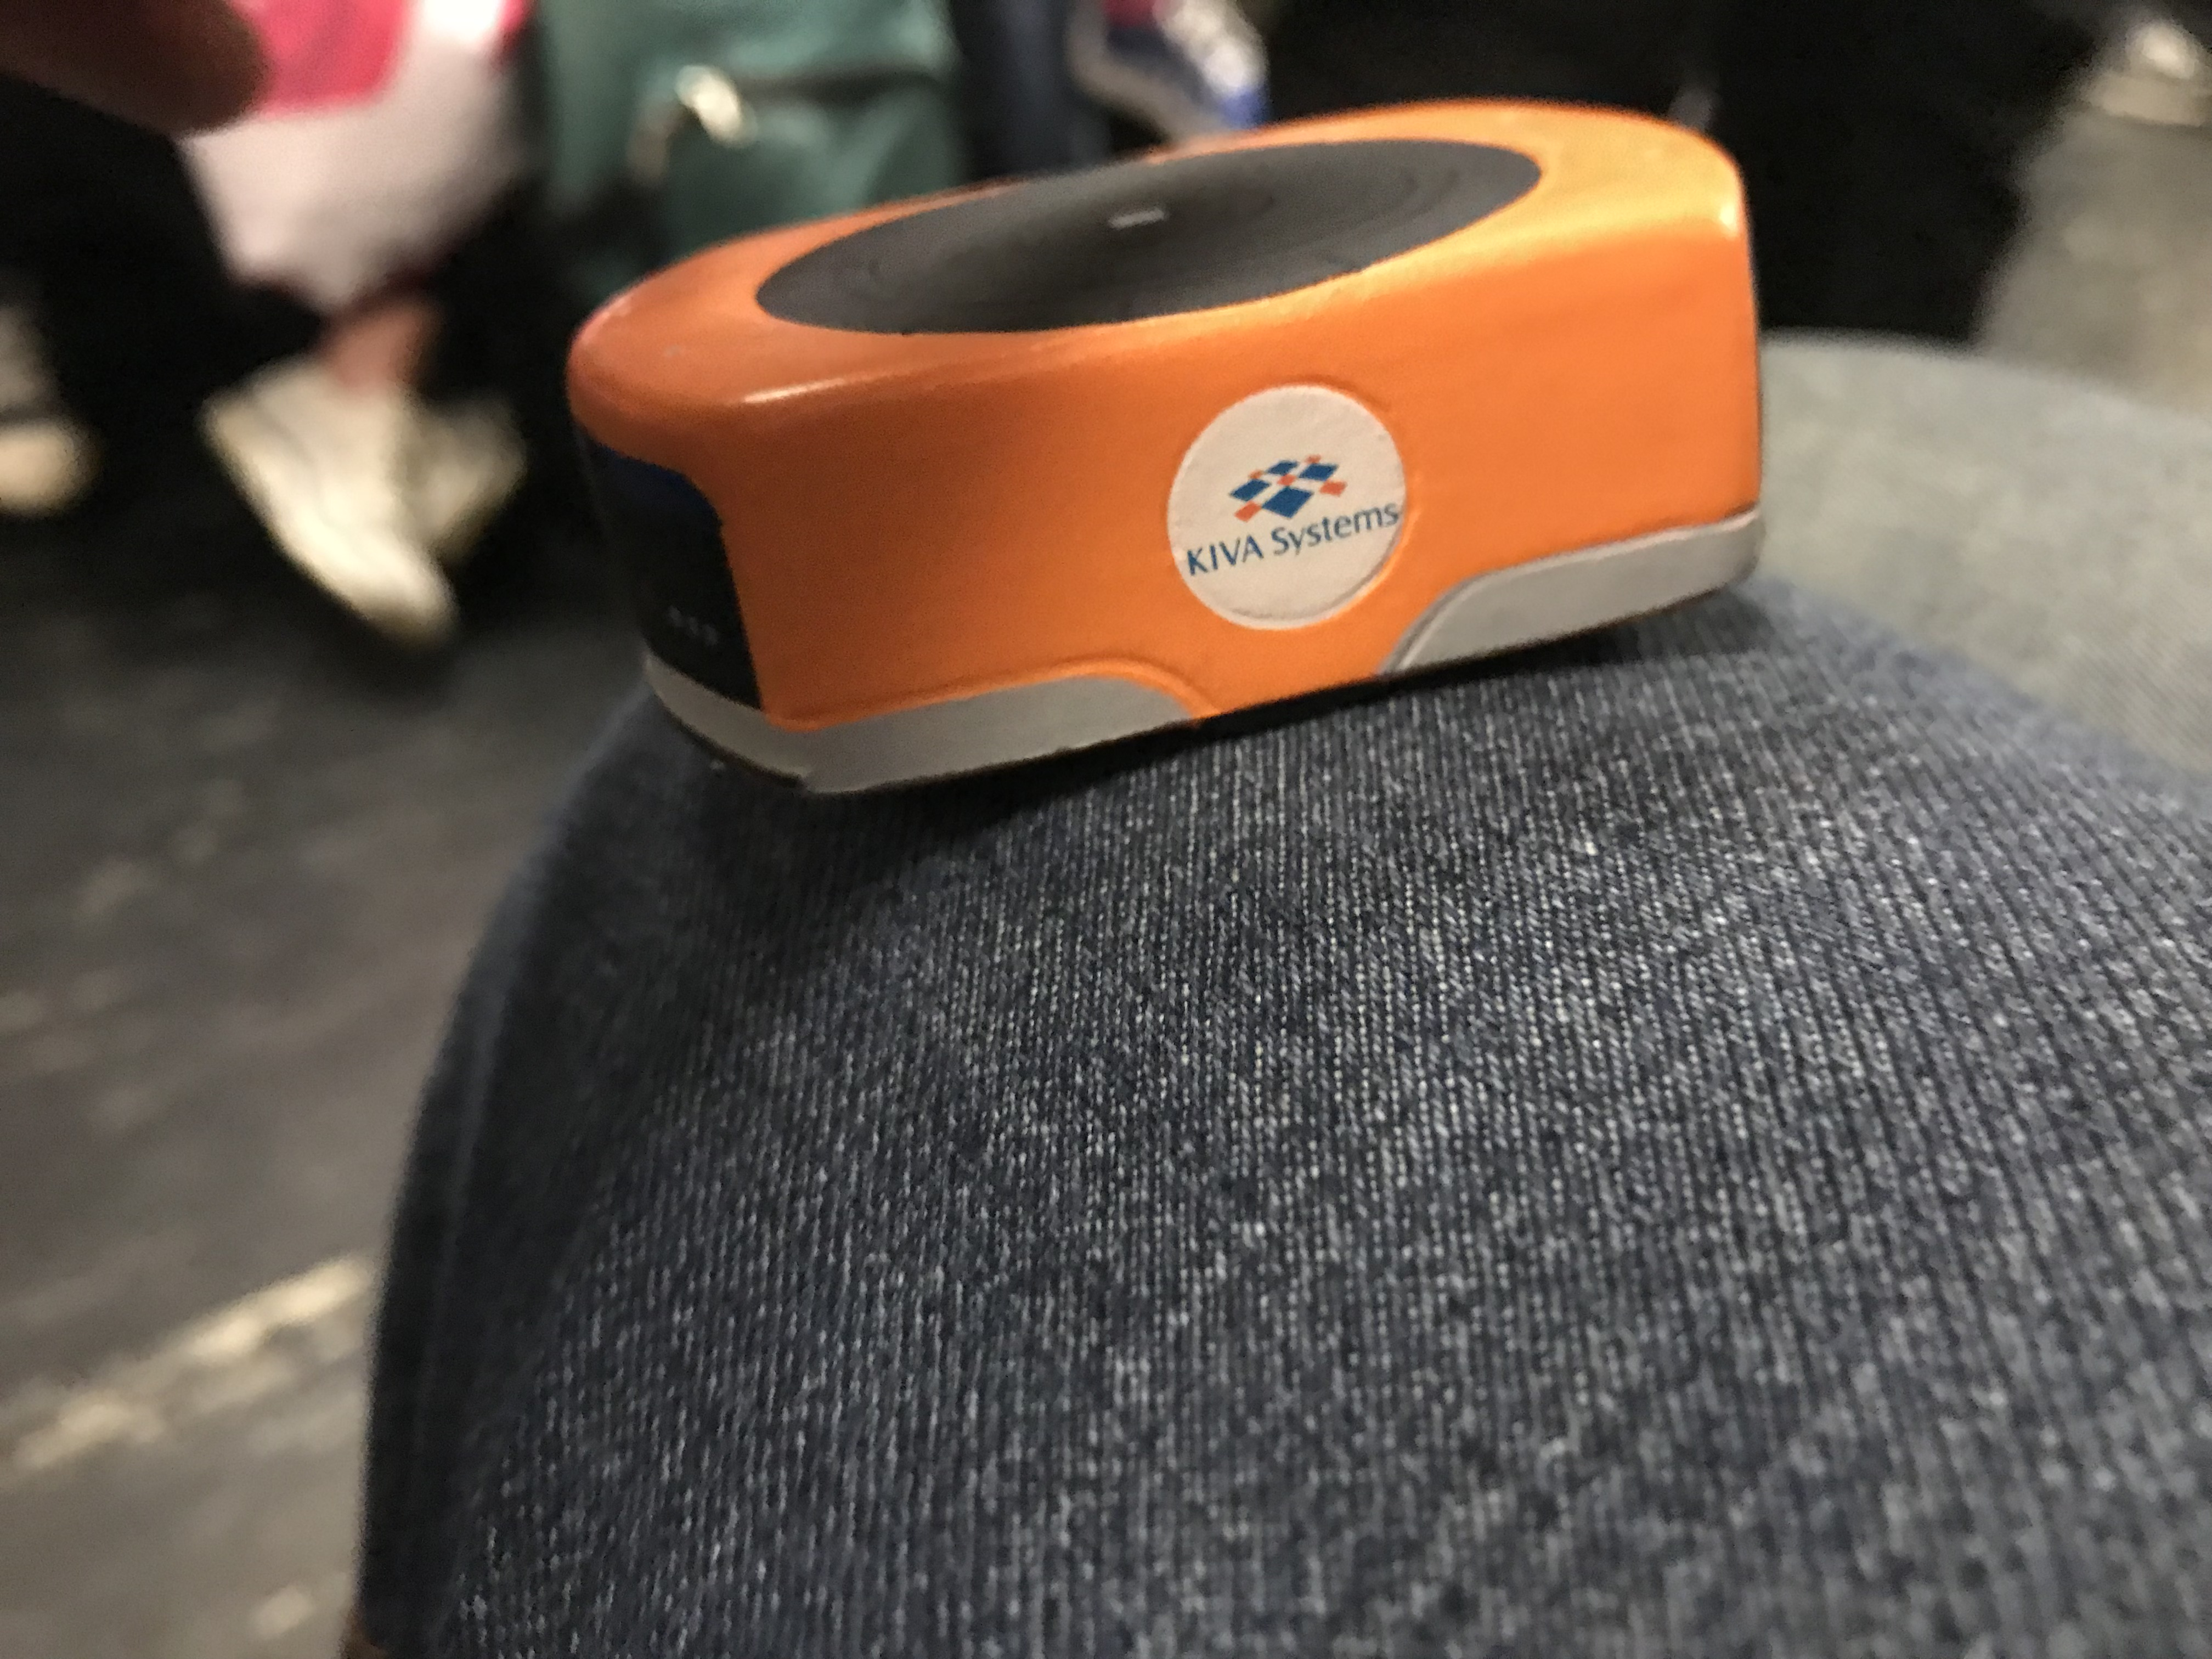amazon_bot: (556, 87, 1815, 805)
